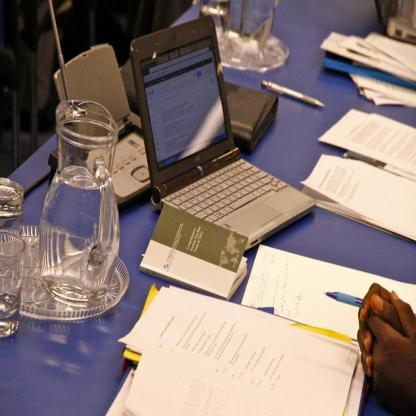board: (130, 14, 317, 251)
